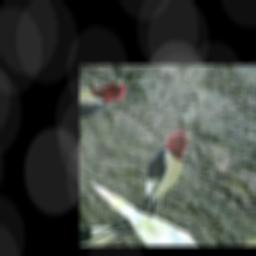Woodpecker: (102, 117, 234, 227)
